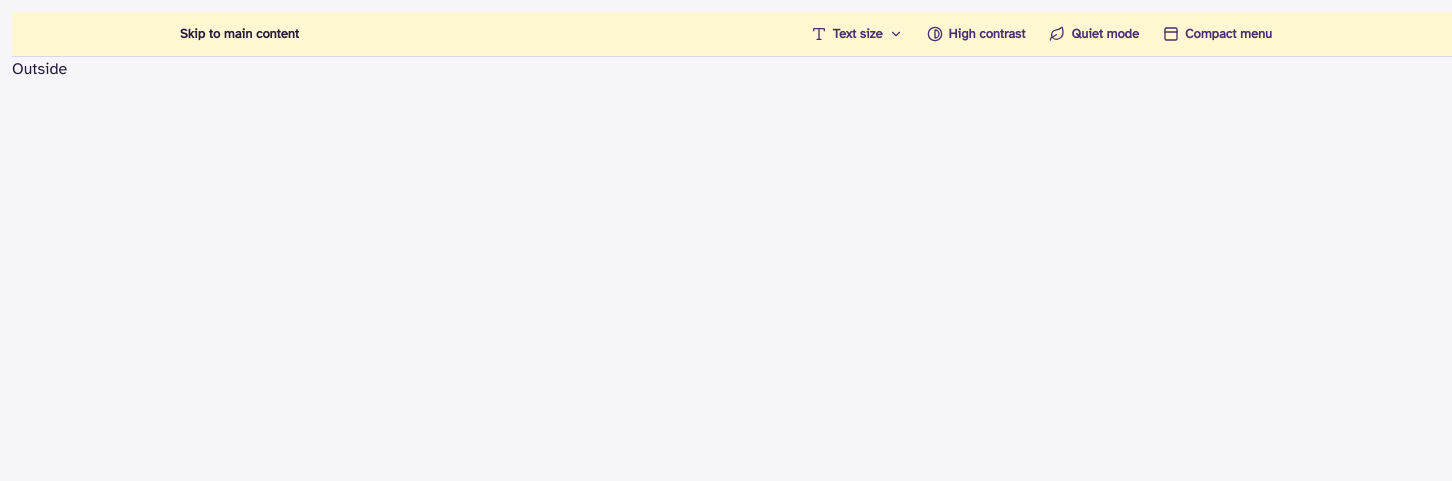
Test: UtilityBar › closes the slider with Escape back on the button, with Done, and with a click outside
The width and height of the screenshot is (1452, 481).
Click the button "Text size".
click(857, 34)  # box [799, 12, 914, 56]
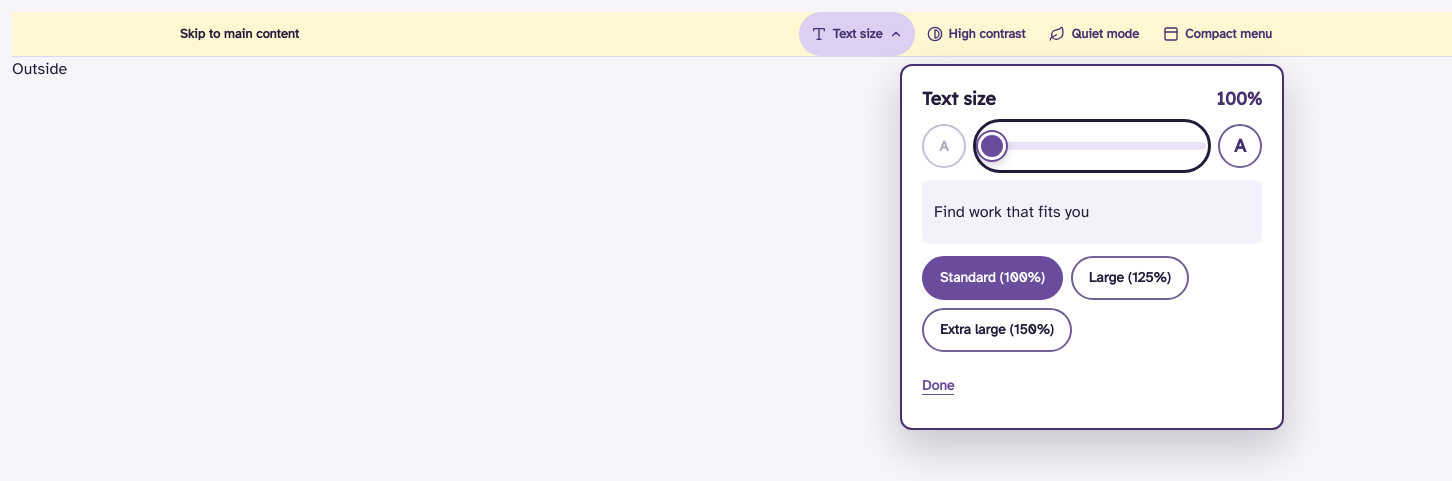
Press Escape
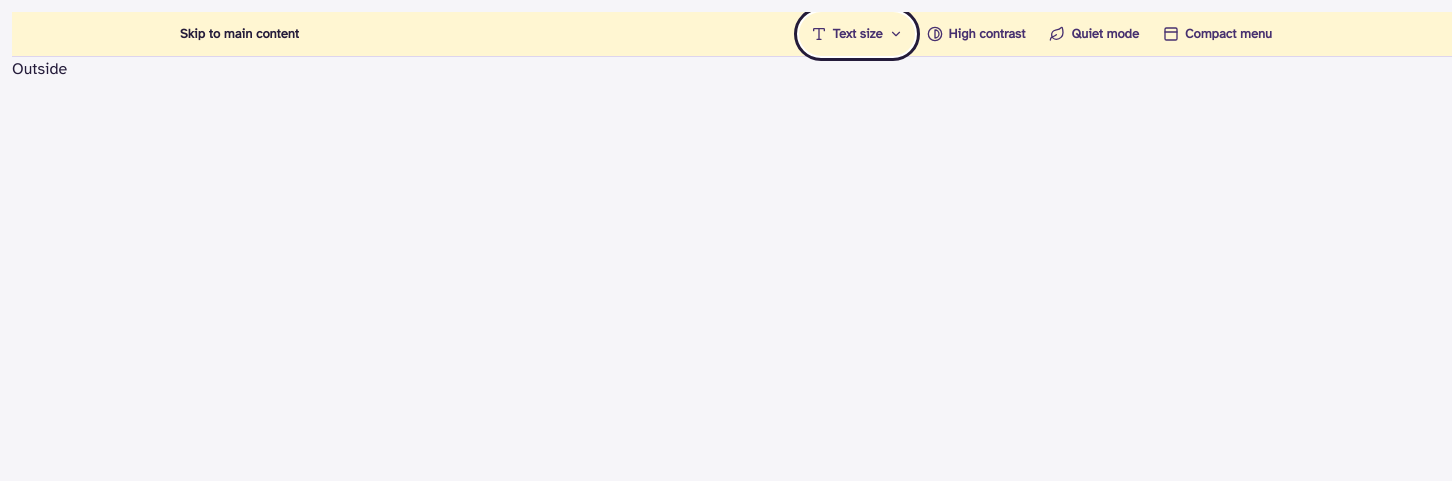
Check: the button "Text size" is collapsed
Click the button "Text size".
click(857, 34)  # box [799, 12, 914, 56]
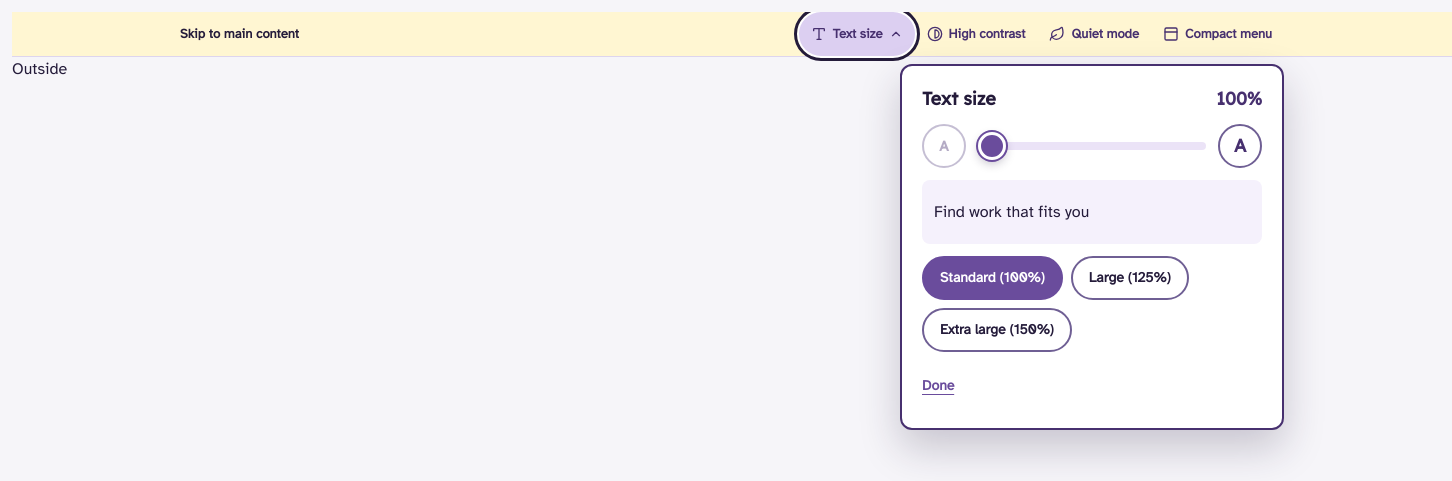
Click the button "Done".
click(938, 386)  # box [922, 364, 954, 408]
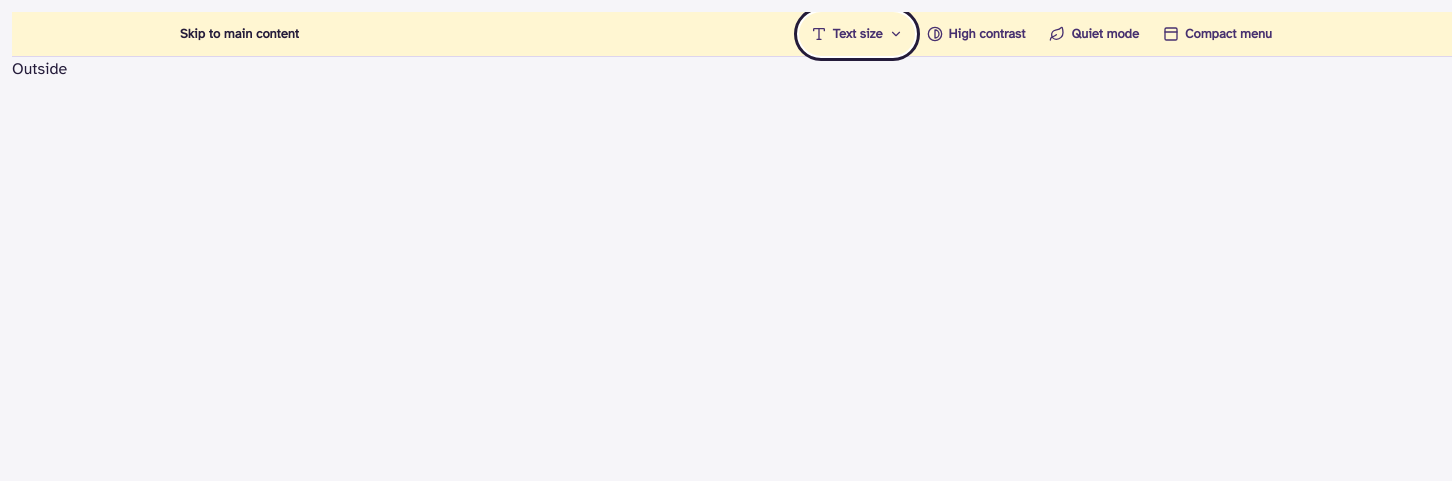
Check: the button "Text size" is collapsed
Click the button "Text size".
click(857, 34)  # box [799, 12, 914, 56]
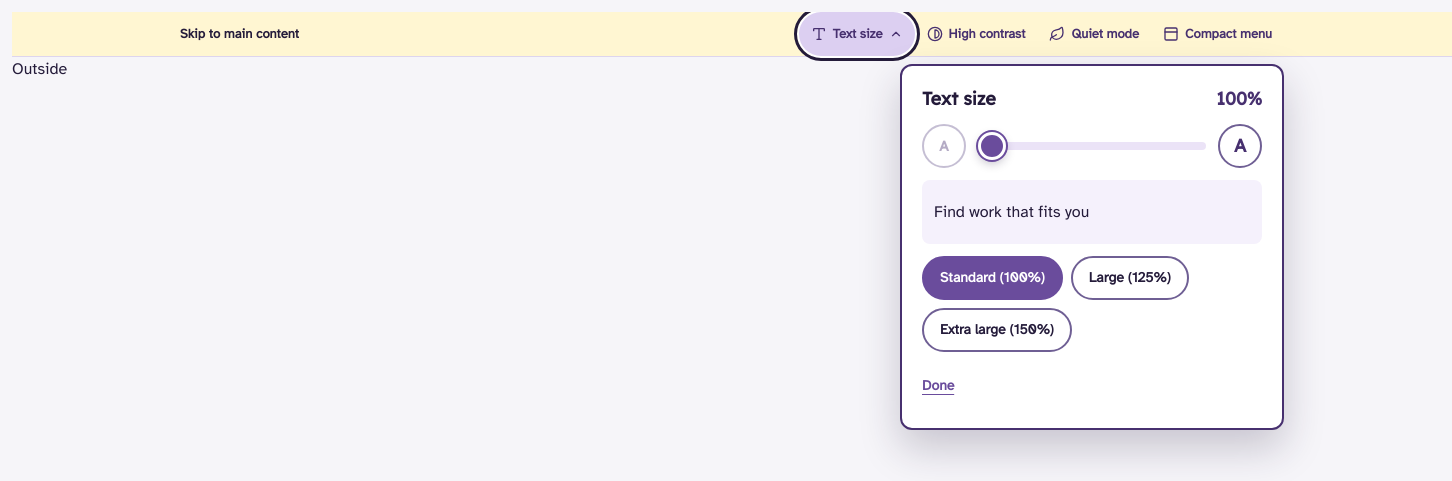
Click the text "Outside".
click(40, 69)  # box [12, 59, 67, 79]
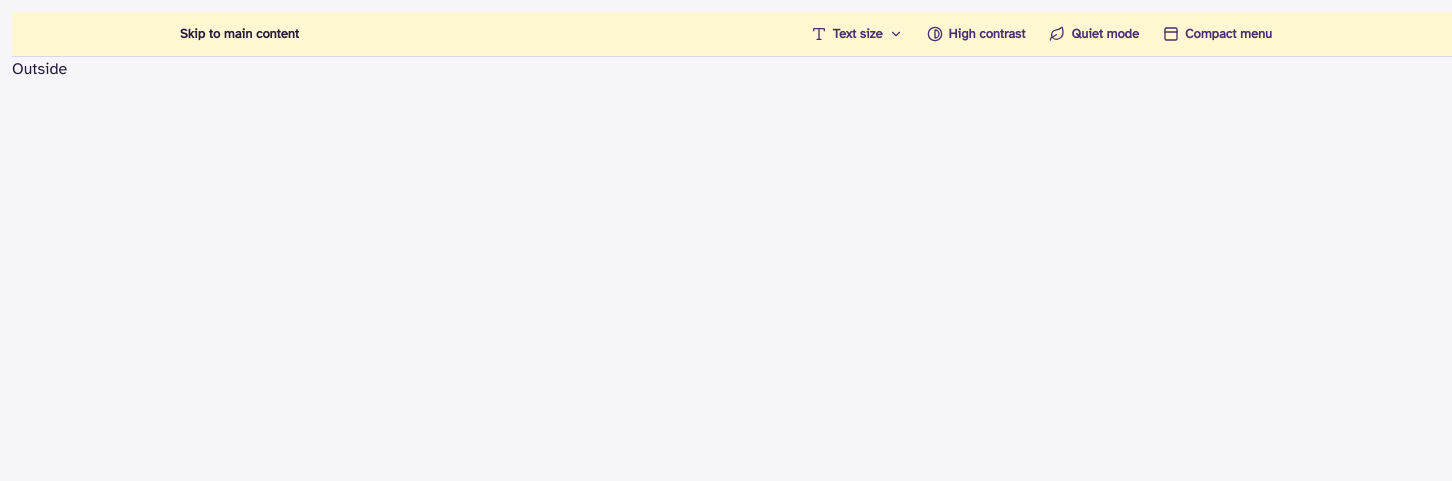
Check: the button "Text size" is collapsed, box [799, 12, 914, 56]
